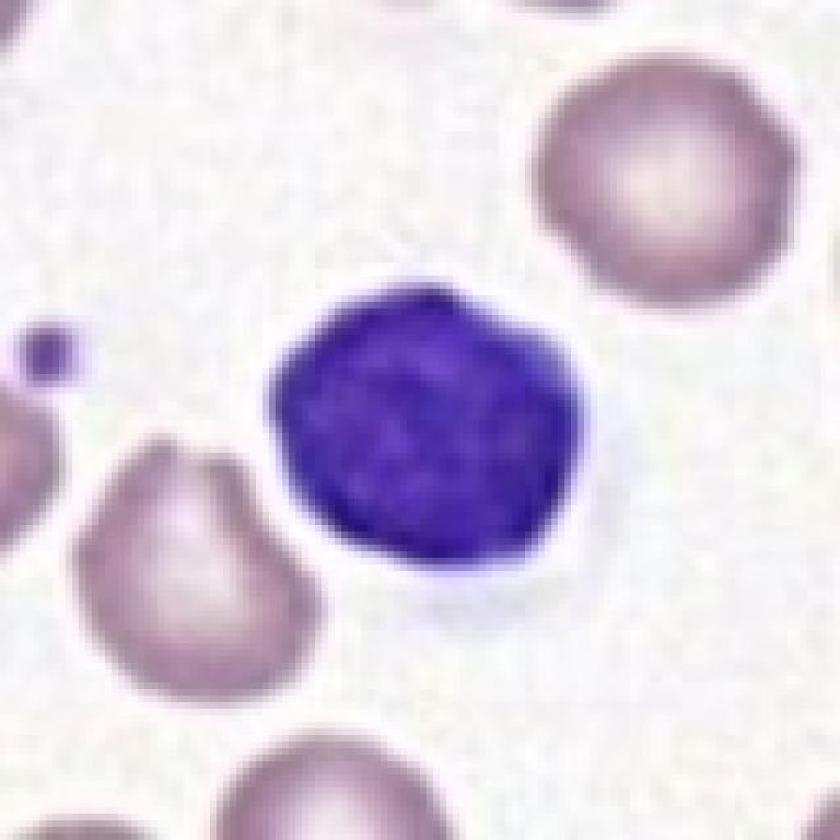lymphocyte: (265, 281, 590, 573)
